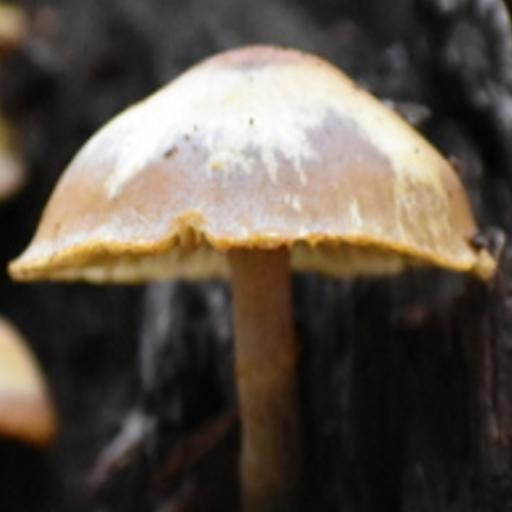mushroom: (10, 38, 495, 370)
